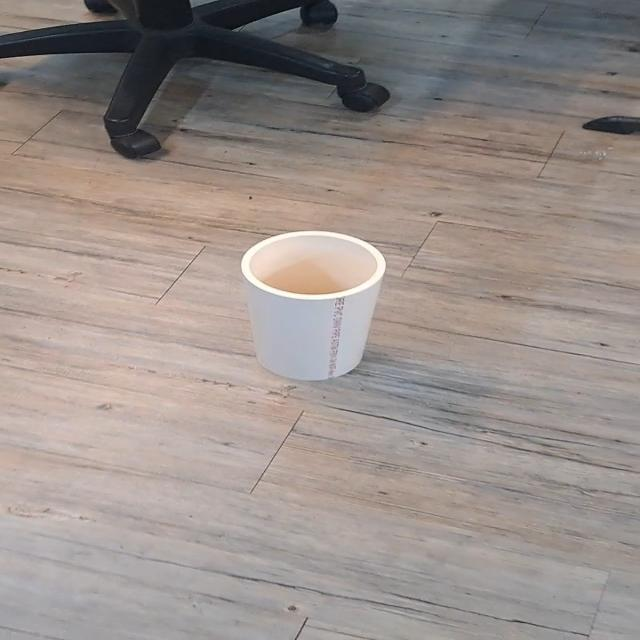CORAL: (232, 227, 407, 384)
